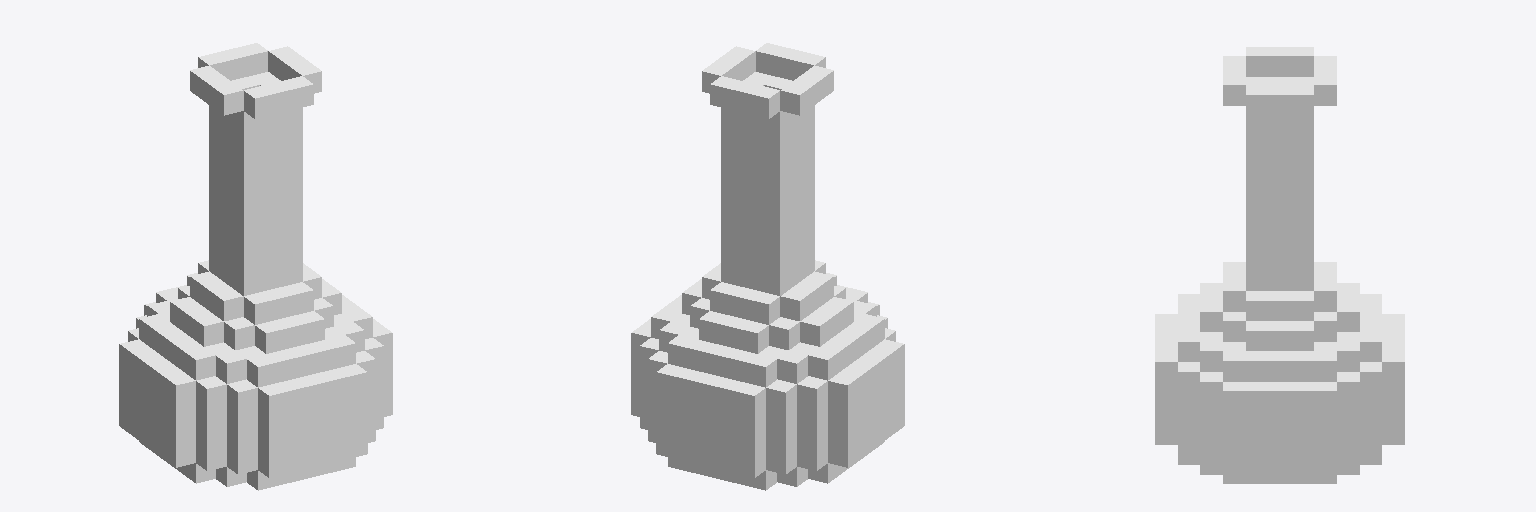
The model's file is fiole.obj.
3 renders of one model, left to right at view 1: azimuth 30°, elevation 25°; view 2: azimuth 150°, elevation 25°; view 3: azimuth 270°, elevation 25°, orthographic.
Visible parts, largest first — view 1: fiole; view 2: fiole; view 3: fiole.
Boxes of the visible parts, <box> form: fiole: <box>119,43,392,490</box>; fiole: <box>631,43,904,490</box>; fiole: <box>1155,47,1404,483</box>.
Size of the model in its own units: 11 by 18 by 11.